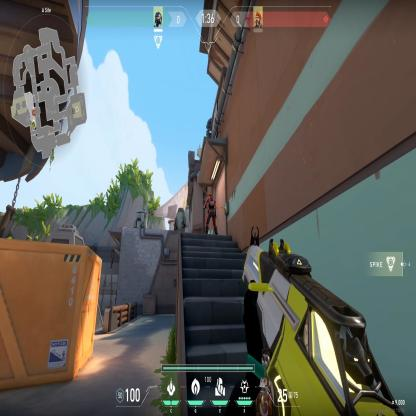enemy: (202, 189, 219, 236)
